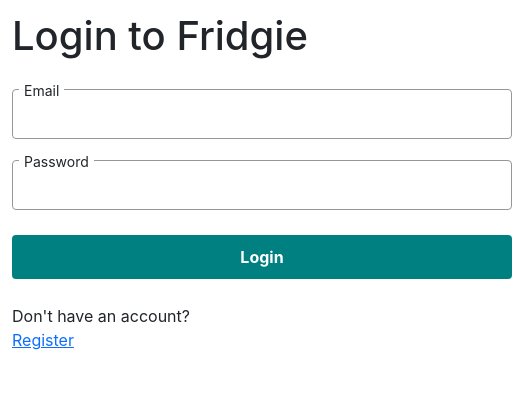
Test: displays errors when fields are not filled in
Click the button with test id "submit-btn": (262, 257) [12,235,512,279]
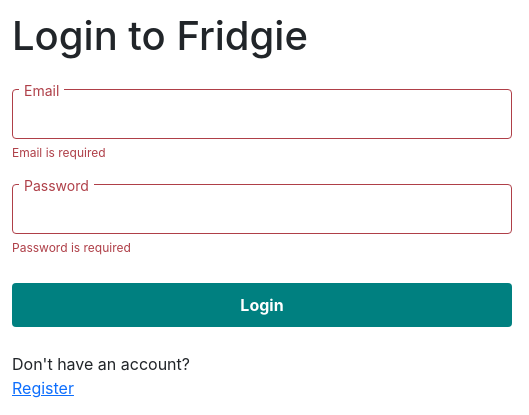
Result: the text "Email is required" is shown at [12,145,106,160]
Result: the text "Password is required" is shown at [12,240,131,255]
